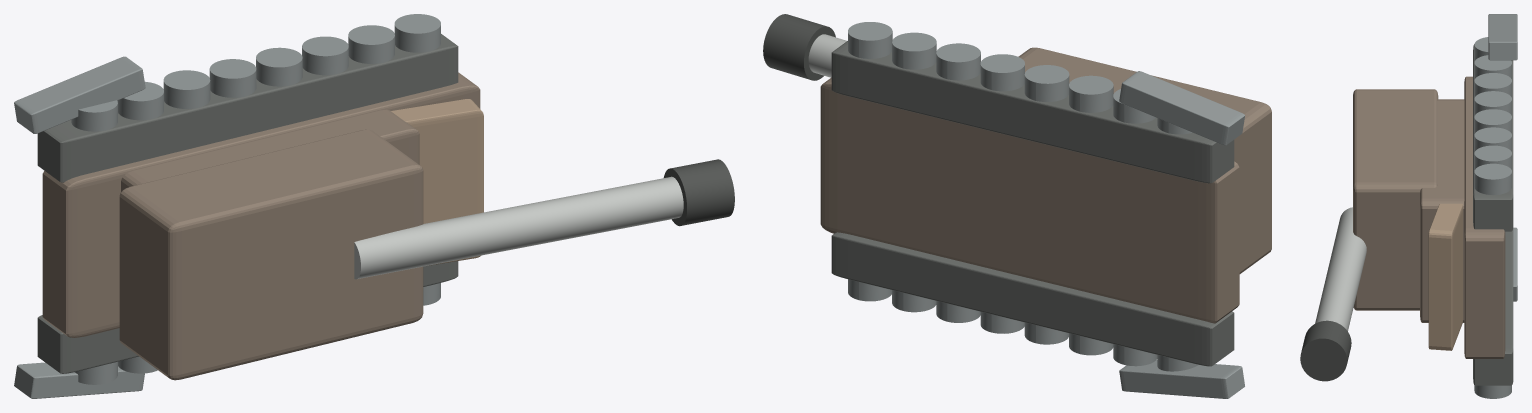
File: d-u16-dominion-self-propelled-howitzer-lod1.glb
3 renders of one model, left to right at view 1: azimuth 30°, elevation 25°; view 2: azimuth 150°, elevation 25°; view 3: azimuth 270°, elevation 25°, orthographic. The views are drawn at different scales.
Visible parts, largest first — view 1: howitzer_casemate, chassis_track_1, chassis_lower, howitzer_barrel_0, chassis_glacis, upper_hull, stabilizer_1, chassis_track_-1, howitzer_muzzle_0, stabilizer_-1, chassis_roadwheel_1_2, chassis_roadwheel_1_3 (+7 smaller); view 2: chassis_lower, chassis_track_-1, chassis_track_1, howitzer_casemate, stabilizer_1, stabilizer_-1, howitzer_muzzle_0, chassis_roadwheel_1_3, chassis_roadwheel_1_5, chassis_roadwheel_1_6, chassis_roadwheel_1_4, chassis_roadwheel_1_2 (+11 smaller); view 3: howitzer_casemate, chassis_lower, chassis_glacis, upper_hull, howitzer_barrel_0, howitzer_muzzle_0, chassis_track_-1, chassis_track_1, stabilizer_1, chassis_roadwheel_1_7, chassis_roadwheel_1_3, chassis_roadwheel_1_4 (+7 smaller).
Part boxes in pixels (left/top/right/bottom): howitzer_casemate: left=119, top=129, right=423, bottom=380; chassis_track_1: left=37, top=34, right=458, bottom=182; chassis_lower: left=42, top=72, right=480, bottom=337; howitzer_barrel_0: left=354, top=176, right=683, bottom=279; chassis_glacis: left=391, top=99, right=483, bottom=265; upper_hull: left=121, top=109, right=419, bottom=191; stabilizer_1: left=14, top=56, right=145, bottom=133; chassis_track_-1: left=37, top=261, right=458, bottom=373; howitzer_muzzle_0: left=663, top=159, right=734, bottom=226; stabilizer_-1: left=14, top=362, right=144, bottom=398; chassis_roadwheel_1_2: left=163, top=70, right=210, bottom=108; chassis_roadwheel_1_3: left=209, top=59, right=256, bottom=97; chassis_lower: left=820, top=77, right=1239, bottom=323; chassis_track_-1: left=831, top=232, right=1234, bottom=366; chassis_track_1: left=831, top=41, right=1234, bottom=183; howitzer_casemate: left=1018, top=47, right=1271, bottom=273; stabilizer_1: left=1119, top=71, right=1245, bottom=145; stabilizer_-1: left=1119, top=360, right=1244, bottom=398; howitzer_muzzle_0: left=763, top=14, right=835, bottom=80; chassis_roadwheel_1_3: left=1024, top=65, right=1069, bottom=101; chassis_roadwheel_1_5: left=936, top=43, right=980, bottom=80; chassis_roadwheel_1_6: left=892, top=32, right=936, bottom=69; chassis_roadwheel_1_4: left=980, top=54, right=1024, bottom=91; chassis_roadwheel_1_2: left=1069, top=75, right=1113, bottom=112; howitzer_casemate: left=1353, top=89, right=1438, bottom=310; chassis_lower: left=1464, top=76, right=1505, bottom=358; chassis_glacis: left=1428, top=203, right=1462, bottom=350; upper_hull: left=1420, top=99, right=1464, bottom=322; howitzer_barrel_0: left=1315, top=207, right=1366, bottom=330; howitzer_muzzle_0: left=1300, top=320, right=1351, bottom=381; chassis_track_-1: left=1473, top=228, right=1513, bottom=385; chassis_track_1: left=1473, top=44, right=1513, bottom=231; stabilizer_1: left=1488, top=14, right=1517, bottom=60; chassis_roadwheel_1_7: left=1474, top=163, right=1511, bottom=195; chassis_roadwheel_1_3: left=1474, top=91, right=1511, bottom=115; chassis_roadwheel_1_4: left=1474, top=109, right=1511, bottom=133.
Size of what is drawn, in the model's own units: 10.35 by 5.37 by 4.09.
